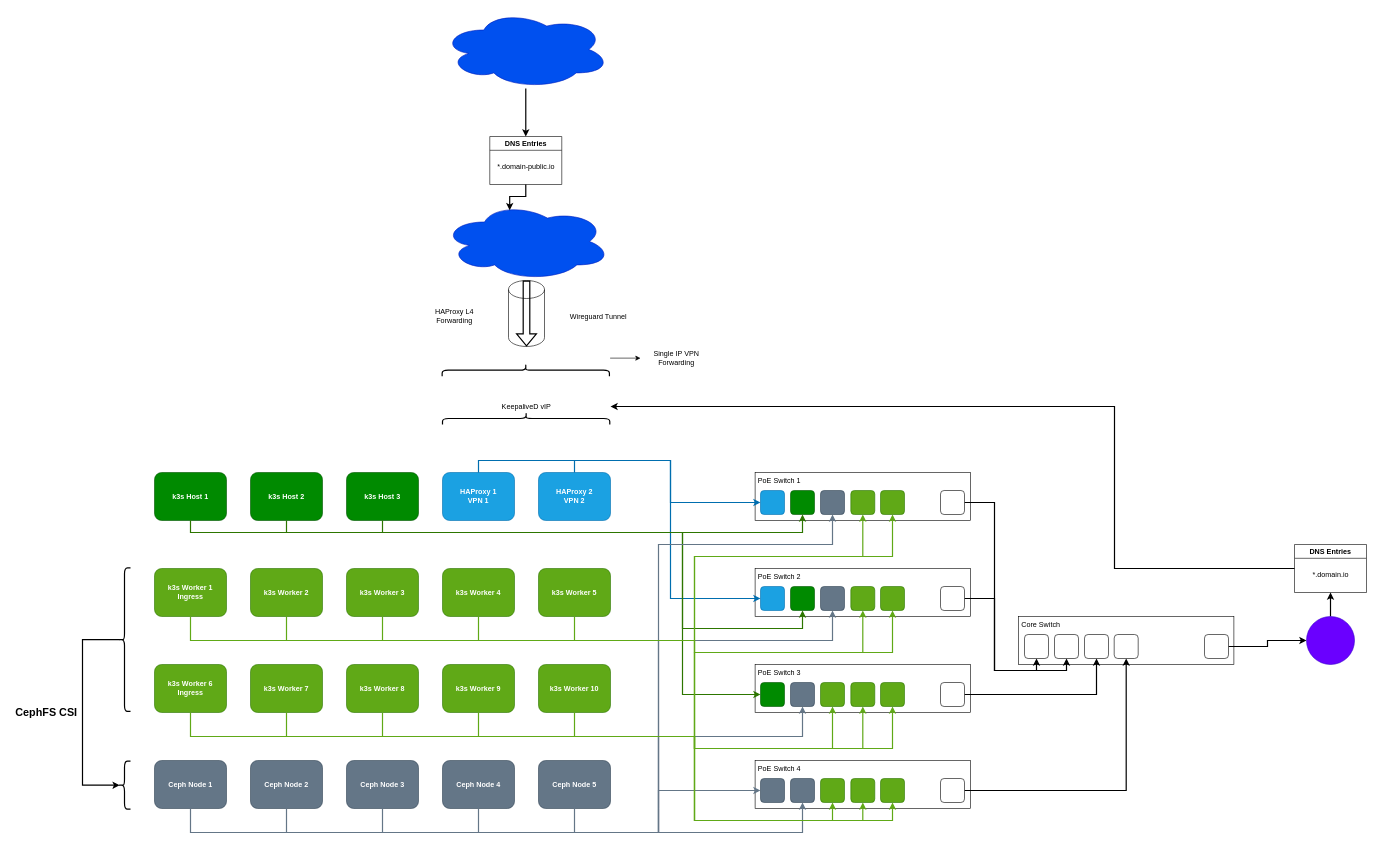
This 1377x848 diagram has some shape labels left out. The shapes that lost their labels are listed below. From the top down, each one's centre as x and y in pixels, then its label:
point 525,49: Public Internet
point 526,241: VPC
point 525,369: Wireguard VPN
point 1330,640: Router
